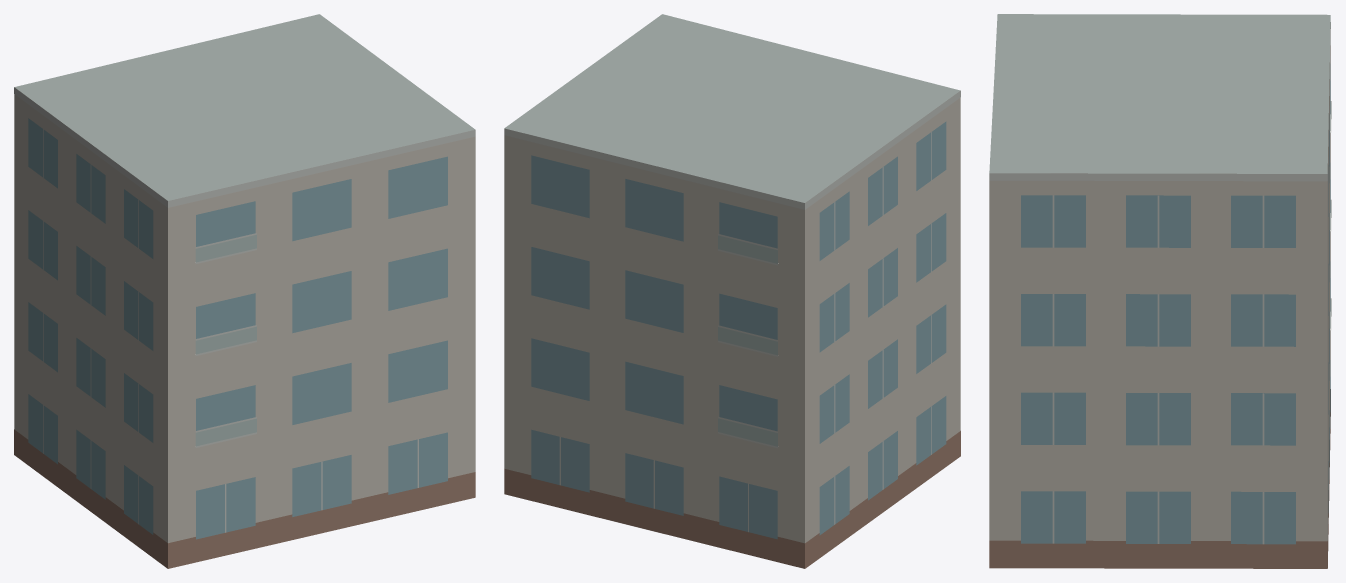
File: survey-upis-32975979.glb
3 views of the same model, side by side, from view 1: azimuth 30°, elevation 25°; view 2: azimuth 150°, elevation 25°; view 3: azimuth 270°, elevation 25° (orthographic). The views are drawn at different scales.
Visible parts, largest first — view 1: survey-upis-32975979.tmp; view 2: survey-upis-32975979.tmp; view 3: survey-upis-32975979.tmp.
Boxes of the visible parts, x1,y1,x2,y2 form: survey-upis-32975979.tmp: [14, 14, 475, 568]; survey-upis-32975979.tmp: [504, 14, 960, 568]; survey-upis-32975979.tmp: [989, 14, 1331, 568].
Size of the model in its own units: 11.39 by 13.1 by 10.3.
